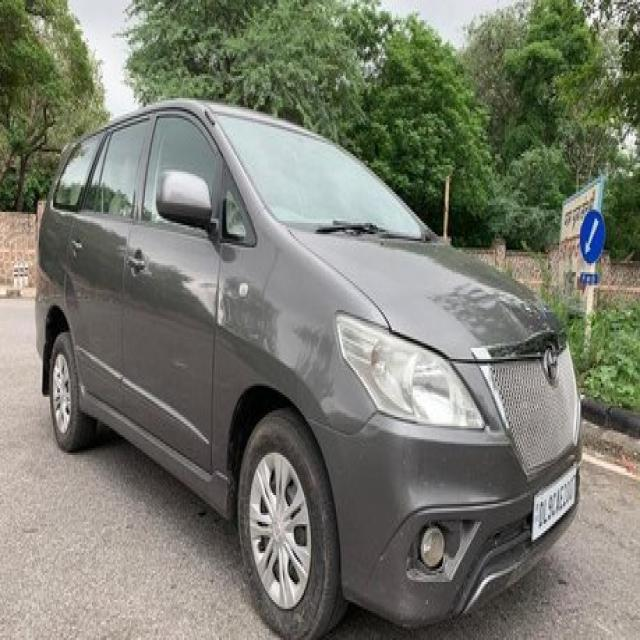light_vehicle: (35, 98, 584, 633)
